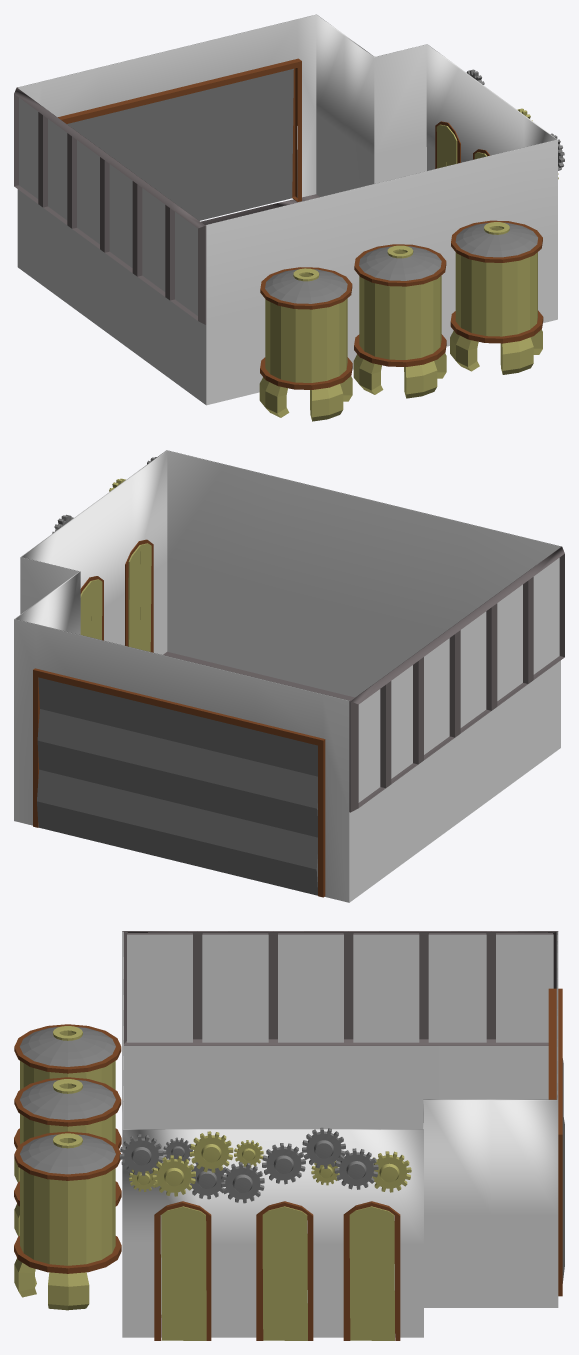
File: fabrica(sin techo) 2.fbx
The picture shows the model from 3 angles, top to bottom: view 1: azimuth 30°, elevation 25°; view 2: azimuth 150°, elevation 25°; view 3: azimuth 270°, elevation 25°; orthographic projection. The views are drawn at different scales.
Parts seen in each view (by area): view 1: Cube.001; view 2: Cube.001; view 3: Cube.001.
Boxes of the visible parts, x1,y1,x2,y2 form: Cube.001: [14, 14, 564, 421]; Cube.001: [14, 450, 564, 902]; Cube.001: [14, 931, 564, 1340].
Bounding box in the file's own units: 5855 × 2785 × 6518.
